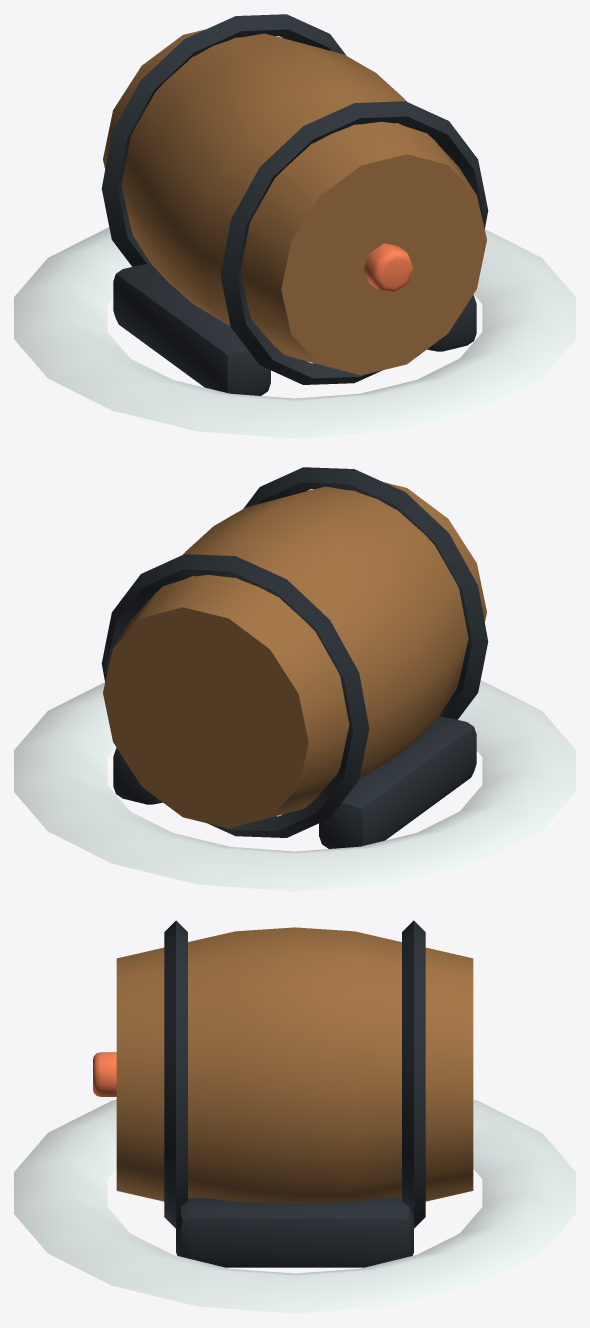
The model's file is W2_Barrel_C.fbx.
3 views of the same model, one above another, from view 1: azimuth 30°, elevation 25°; view 2: azimuth 150°, elevation 25°; view 3: azimuth 270°, elevation 25° (orthographic).
Visible parts, largest first — view 1: W2_Barrel_C; view 2: W2_Barrel_C; view 3: W2_Barrel_C.
Boxes of the visible parts, bbox=[...] form: W2_Barrel_C: bbox=[14, 14, 575, 438]; W2_Barrel_C: bbox=[14, 467, 575, 891]; W2_Barrel_C: bbox=[14, 920, 575, 1313].
Bounding box in the file's own units: 1.44 × 0.78 × 1.42.
